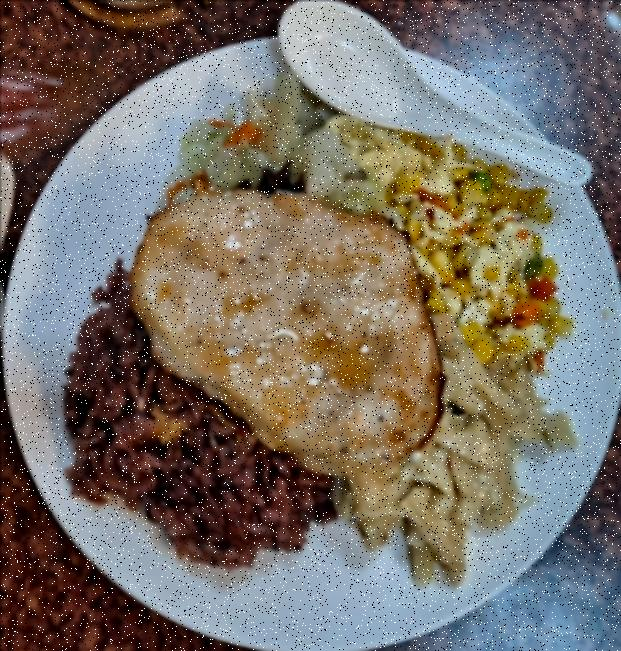grilled chicken steak: (129, 186, 445, 470)
plate: (0, 24, 615, 651)
purple rice: (61, 260, 343, 568)
side dish: (337, 350, 573, 590), (379, 133, 561, 374), (177, 64, 373, 202)
